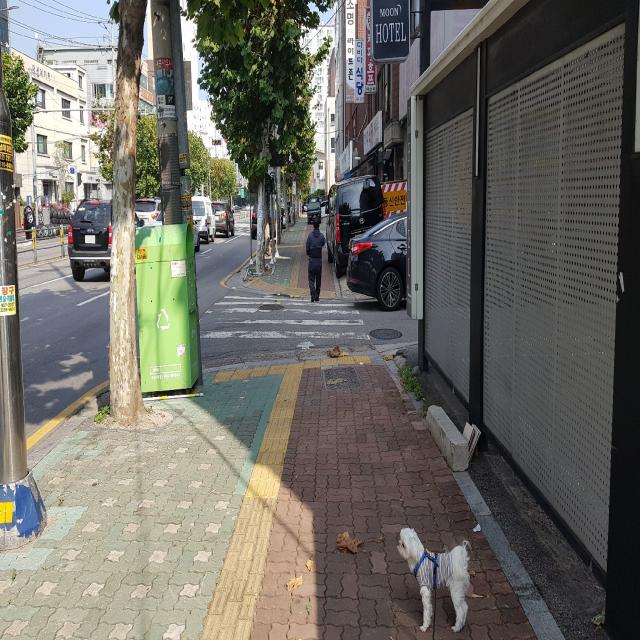횡단보도: (199, 295, 371, 350)
